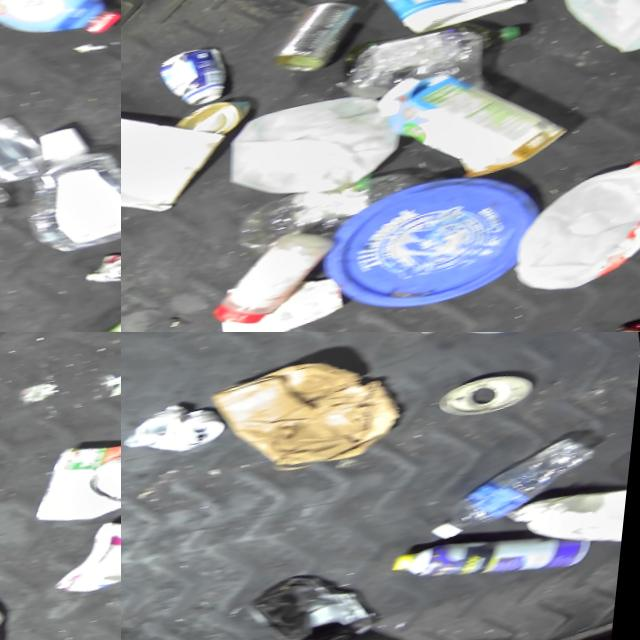can: (24, 423, 121, 533), (260, 0, 376, 81), (122, 389, 240, 465), (437, 361, 546, 423), (173, 92, 261, 146), (84, 235, 121, 293), (612, 299, 640, 332)
milk_jug: (217, 79, 418, 214), (498, 144, 640, 300), (507, 466, 637, 567), (543, 0, 640, 63)
plastic_bottle: (423, 423, 618, 543), (14, 101, 121, 259)
